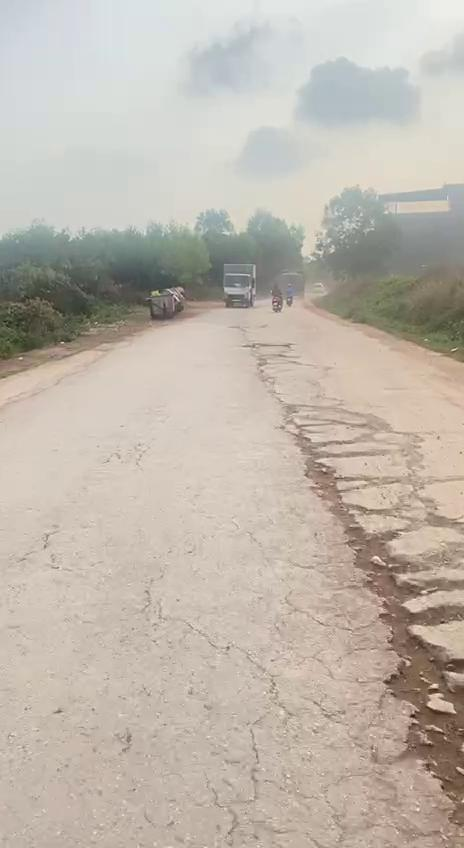pothole: (275, 405, 464, 823)
